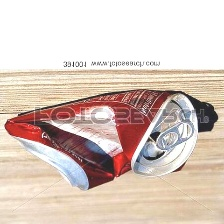can: (3, 85, 203, 191)
